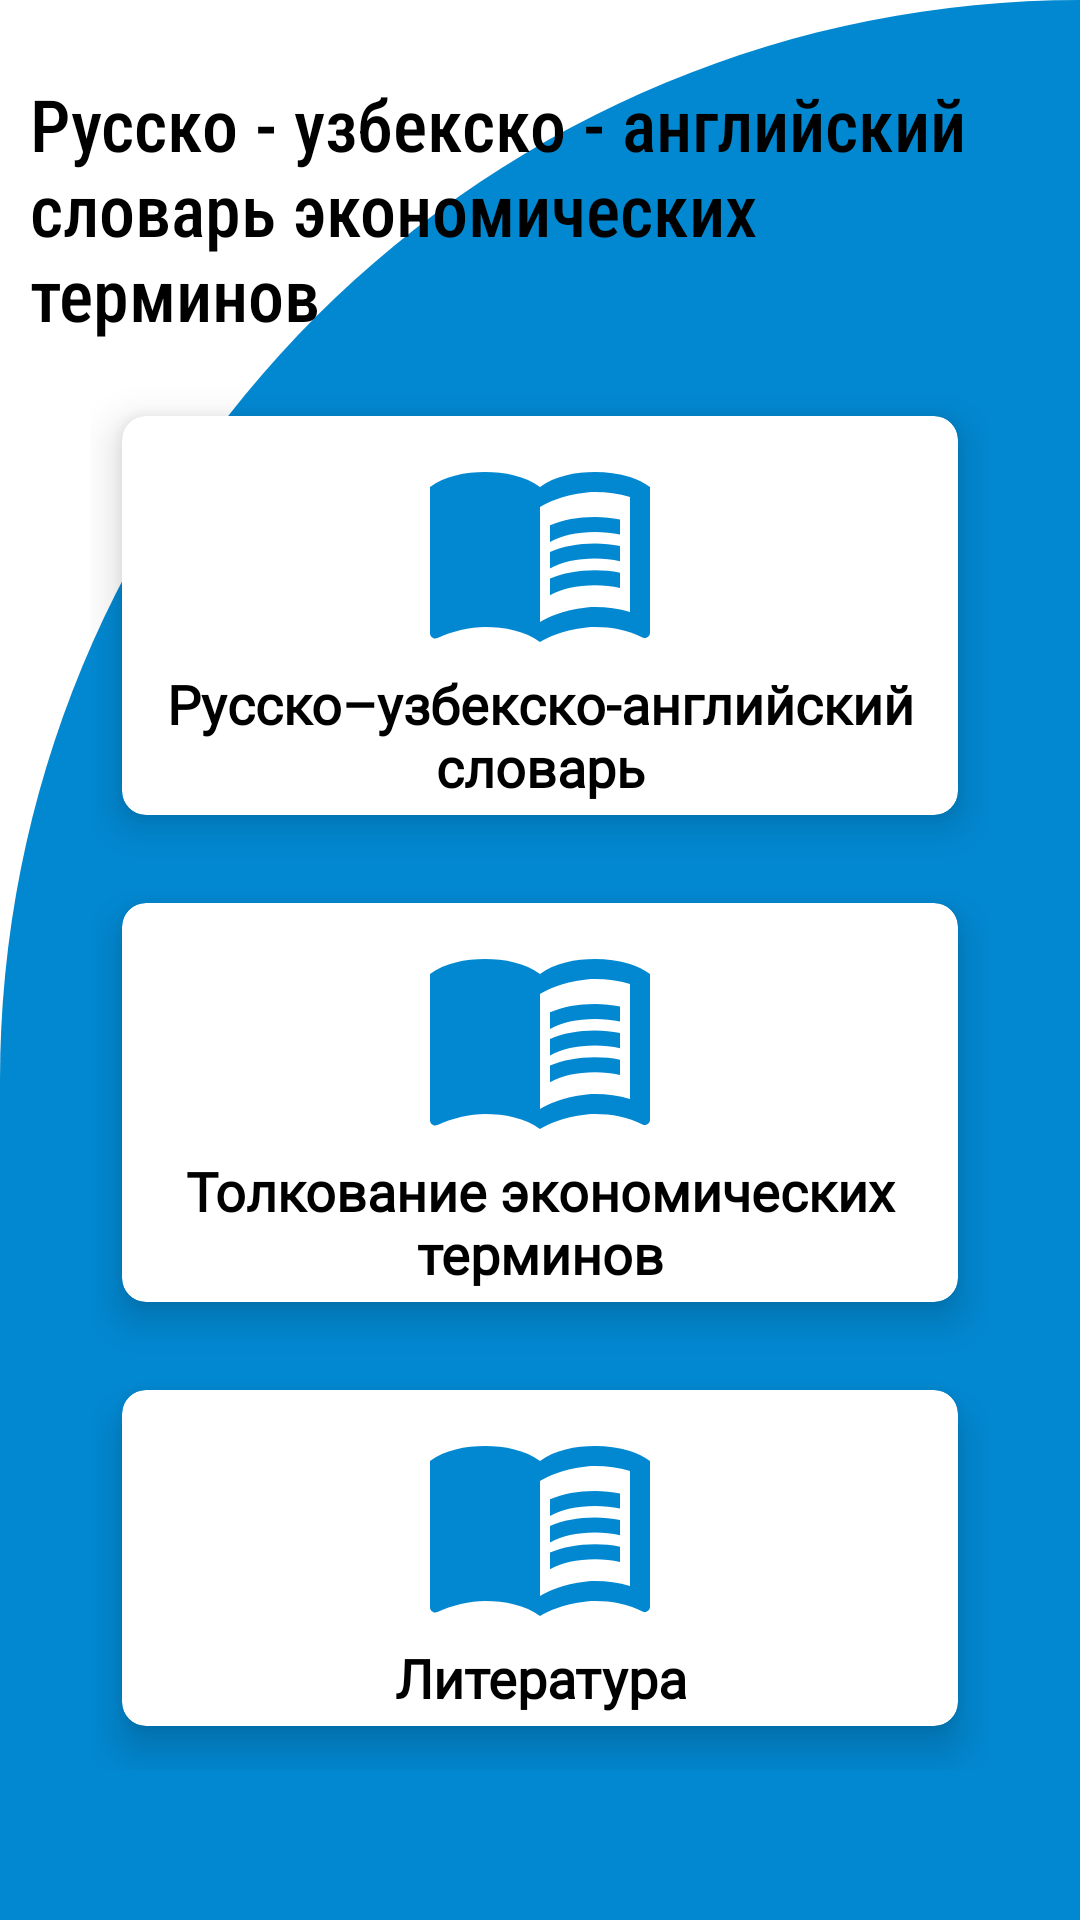

Icon click points for this 1080 × 1920 phone screenshot, format (x=x, y=y):
book: (x=540, y=557), (x=540, y=1044), (x=540, y=1531)
